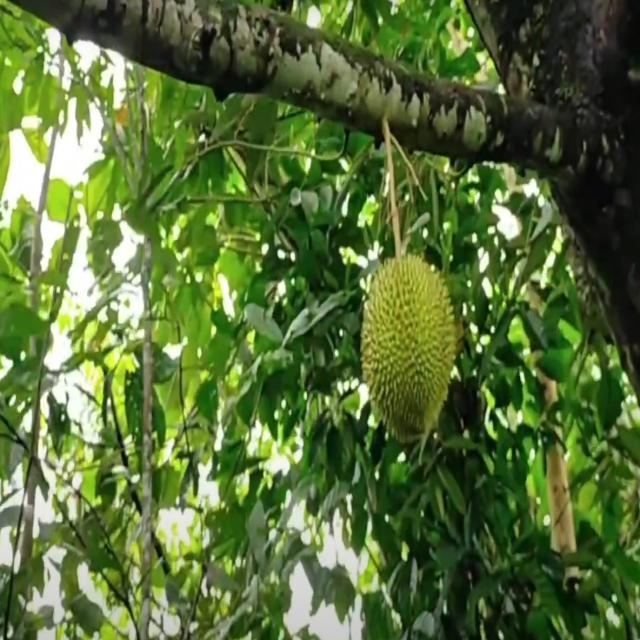immature: (359, 251, 456, 441)
